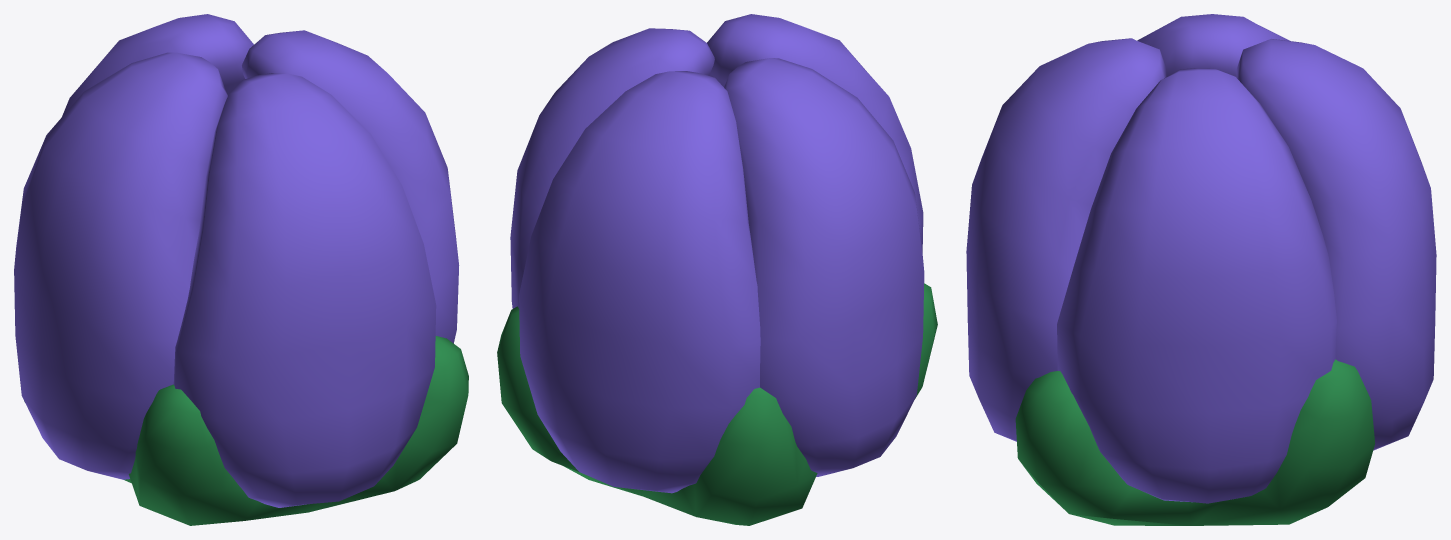
Rendered from FlowerHead4.fbx.
The picture shows the model from 3 angles, left to right: view 1: azimuth 30°, elevation 25°; view 2: azimuth 150°, elevation 25°; view 3: azimuth 270°, elevation 25°; orthographic projection. The views are drawn at different scales.
Visible parts, largest first — view 1: FlowerHead.Purple; view 2: FlowerHead.Purple; view 3: FlowerHead.Purple.
Boxes of the visible parts, x1=… form: FlowerHead.Purple: x1=14, y1=14, x2=468, y2=525; FlowerHead.Purple: x1=497, y1=14, x2=937, y2=525; FlowerHead.Purple: x1=966, y1=14, x2=1436, y2=525.
Bounding box in the file's own units: 223 × 250 × 238.
